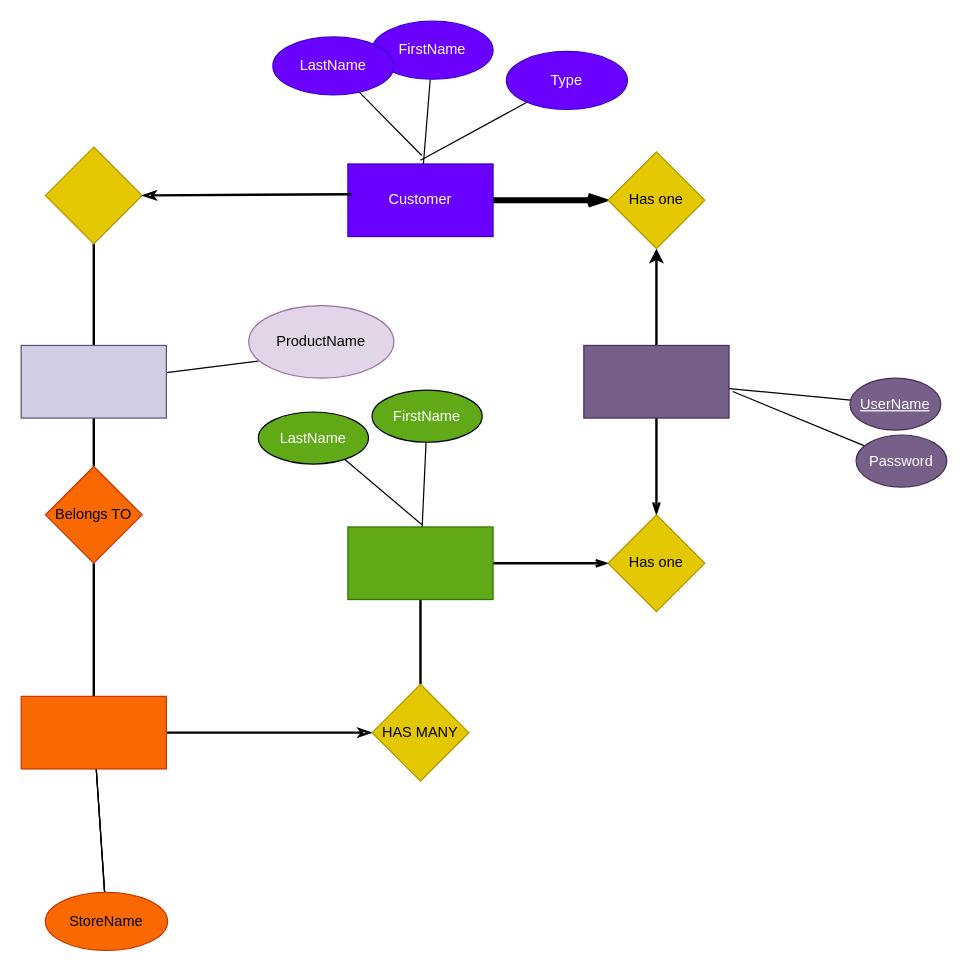
The diagram is 968 pixels wide and 972 high, and some of its shapes have lost their labels. The shapes that lost their labels are listed below. From the top down, each one's centre as x and y in pixels, then its label:
At (x=93, y=195): "One to Many belongs to".
At (x=93, y=381): "Products".
At (x=656, y=381): "User".
At (x=420, y=563): "Employee".
At (x=93, y=732): "Stores".
